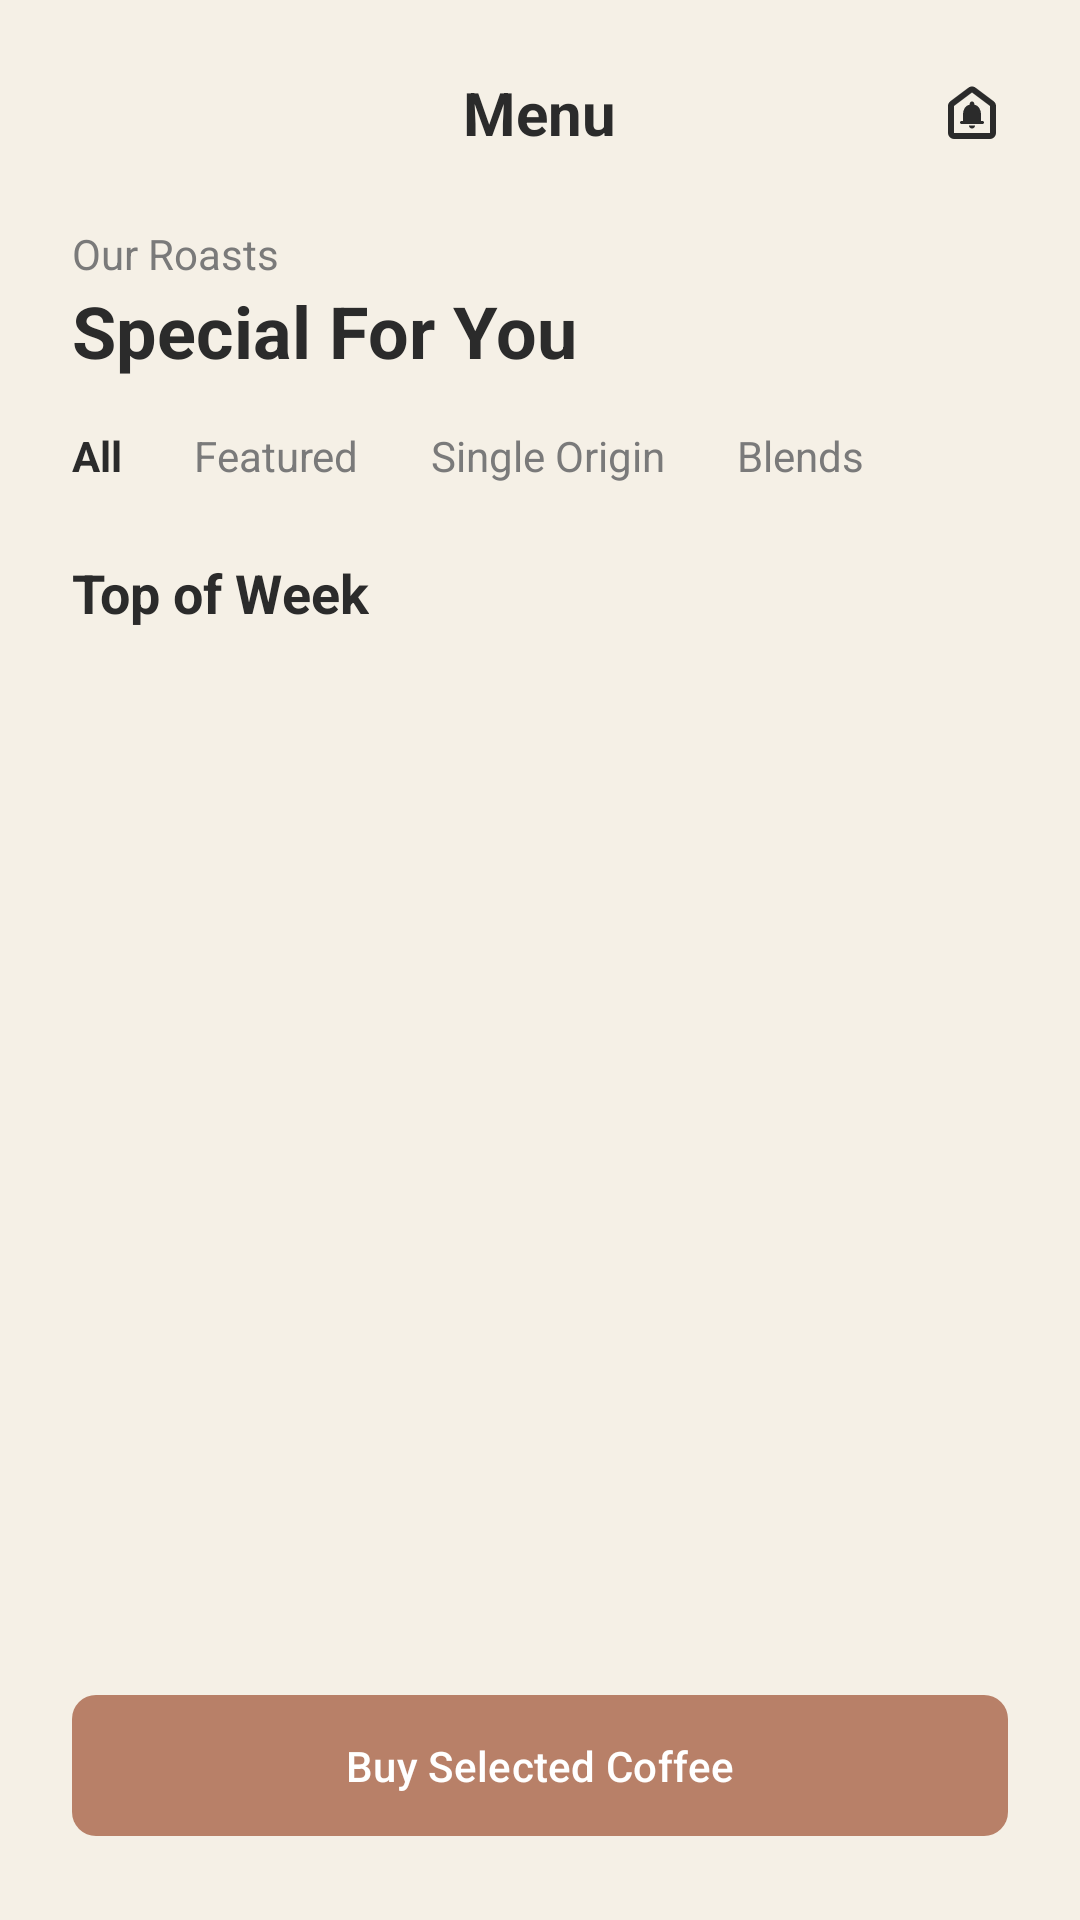

Screen size 1080x1920. Icon name, then its center in pixels as point (x, y):
bell: point (972, 112)
